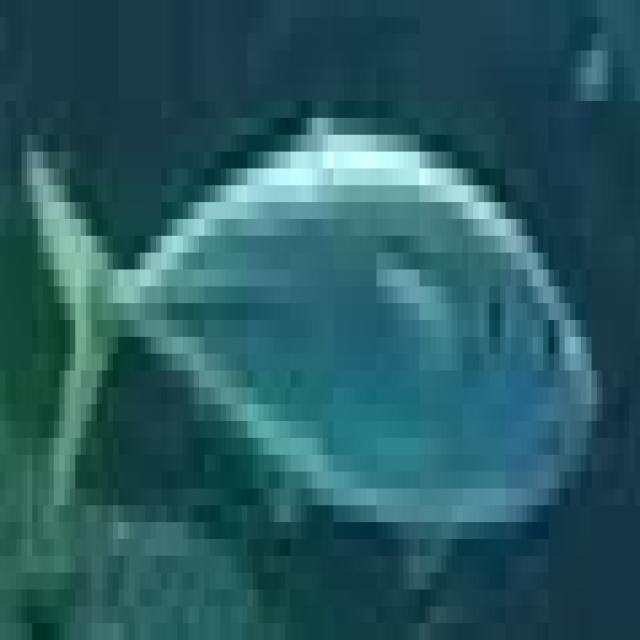fish: (5, 17, 640, 640)
